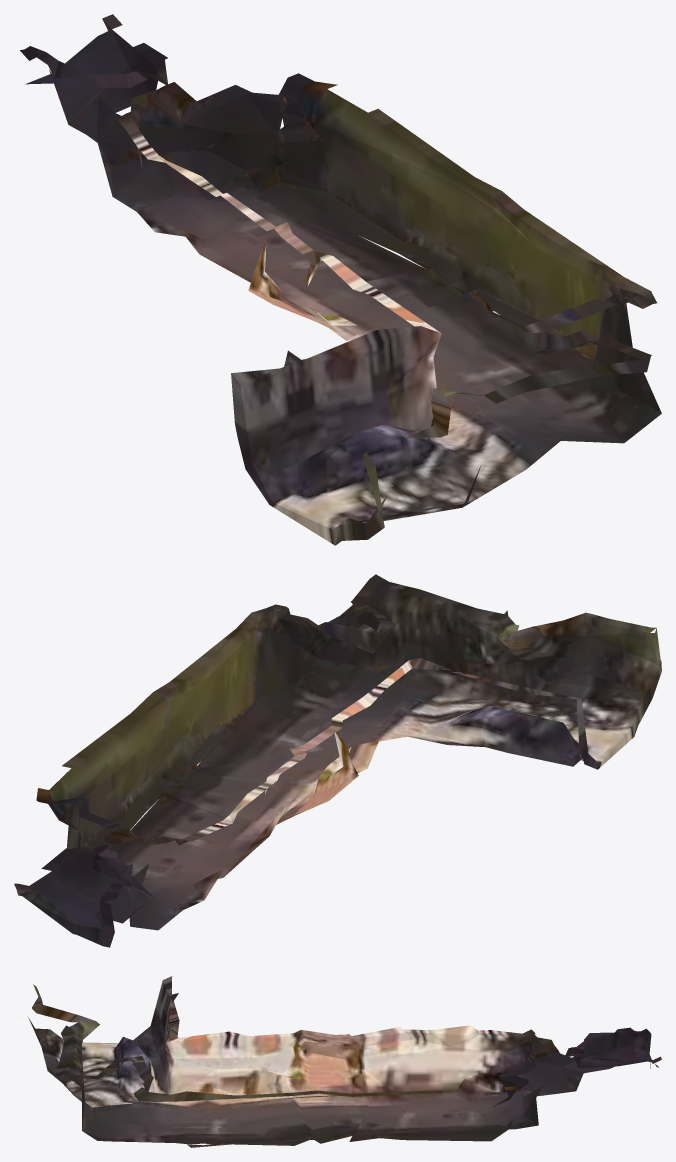
3 renders of one model, top to bottom at view 1: azimuth 30°, elevation 25°; view 2: azimuth 150°, elevation 25°; view 3: azimuth 270°, elevation 25°, orthographic. The views are drawn at different scales.
Visible parts, largest first — view 1: Mesh_0; view 2: Mesh_0; view 3: Mesh_0.
Boxes of the visible parts, <box> form: Mesh_0: <box>20,14,661,545</box>; Mesh_0: <box>14,574,661,947</box>; Mesh_0: <box>28,976,661,1147</box>.
Bounding box in the file's own units: 15.75 × 4.33 × 35.31.
Materials: 1 (1 with a texture image).
